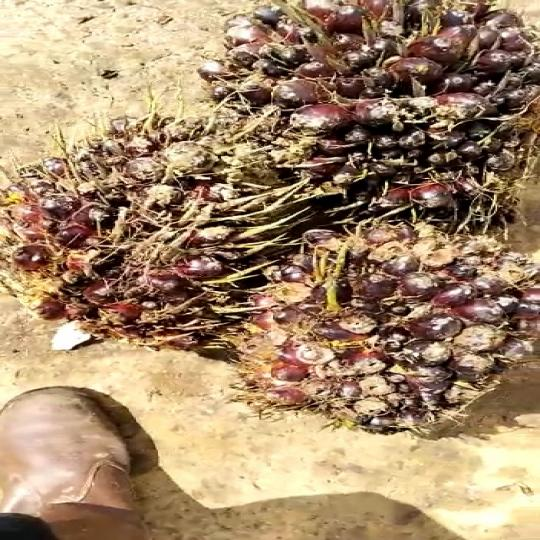kurang masak: (0, 105, 328, 377), (179, 0, 540, 207), (231, 226, 540, 454)
